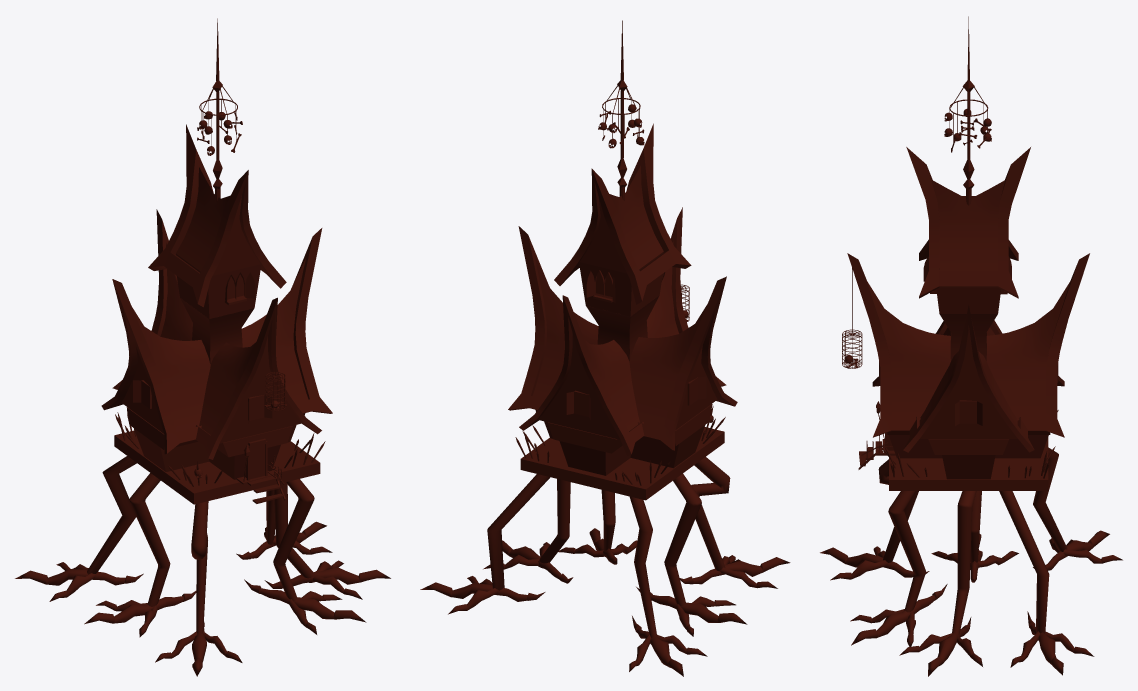
The model's file is witch-hut.glb.
3 views of the same model, side by side, from view 1: azimuth 30°, elevation 25°; view 2: azimuth 150°, elevation 25°; view 3: azimuth 270°, elevation 25° (orthographic).
Visible parts, largest first — view 1: pCylinder91; view 2: pCylinder91; view 3: pCylinder91.
Boxes of the visible parts, x1=… form: pCylinder91: x1=15, y1=18, x2=390, y2=676; pCylinder91: x1=420, y1=20, x2=790, y2=676; pCylinder91: x1=820, y1=16, x2=1122, y2=676.
Bounding box in the file's own units: 27.29 × 53.04 × 24.81.
